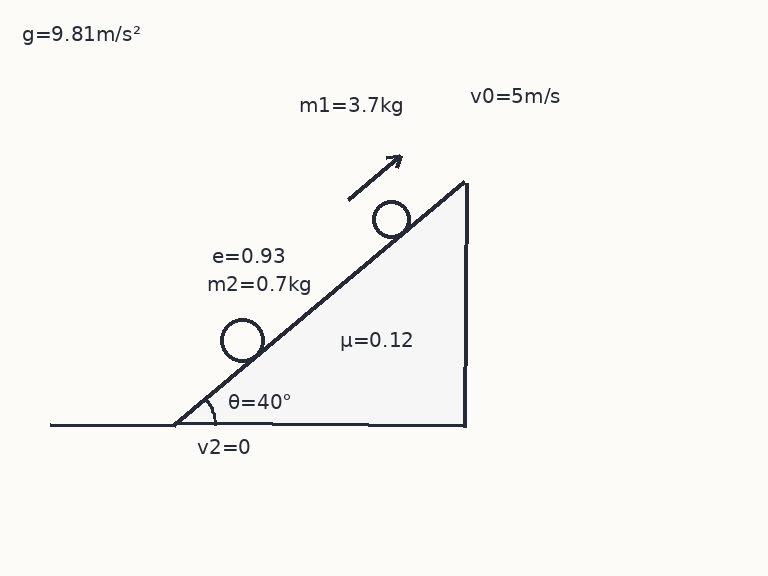ball: (218, 316, 266, 364), (370, 198, 412, 240)
ramp: (173, 180, 467, 427)
